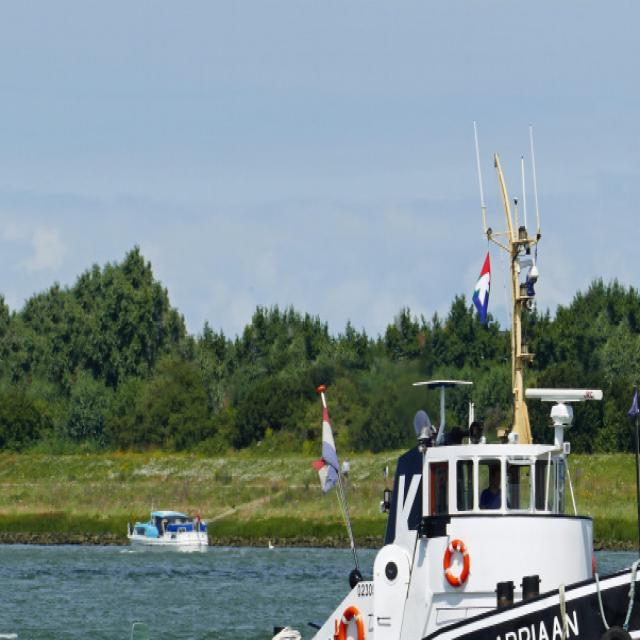tugboat: (1, 115, 640, 640)
